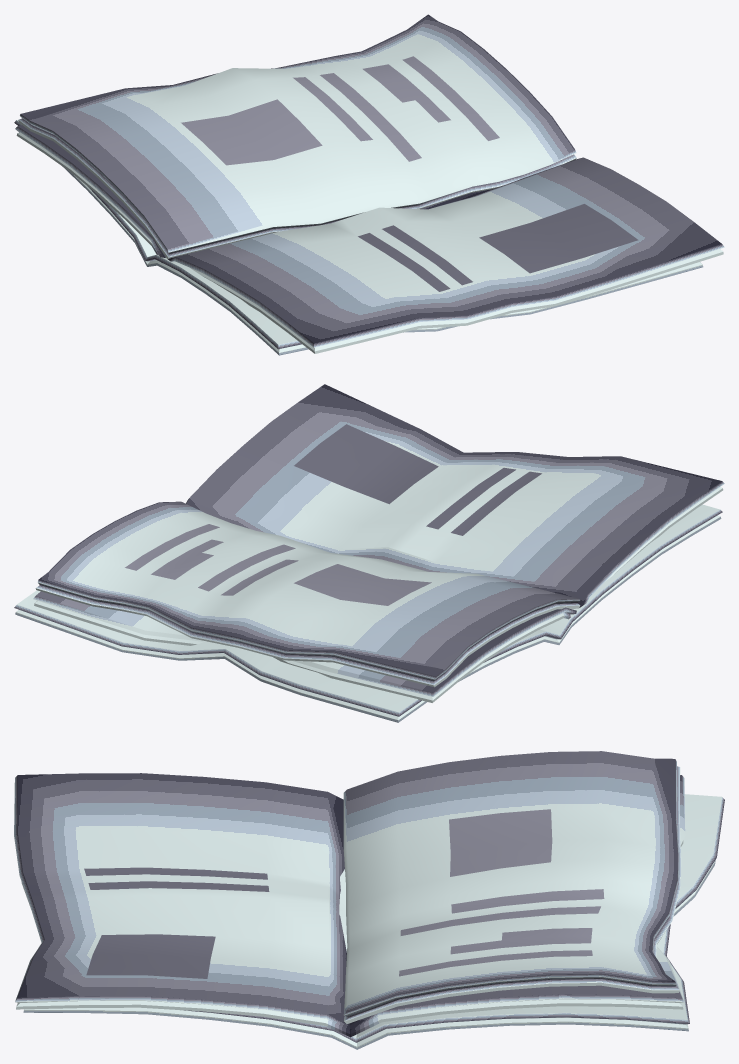
Rendered from diario.fbx.
3 views of the same model, one above another, from view 1: azimuth 30°, elevation 25°; view 2: azimuth 150°, elevation 25°; view 3: azimuth 270°, elevation 25° (orthographic). The views are drawn at different scales.
Parts seen in each view (by area): view 1: diario; view 2: diario; view 3: diario.
Part boxes in pixels (x1,y1,x2,y2): diario: [14, 14, 724, 355]; diario: [14, 384, 724, 722]; diario: [14, 751, 724, 1049].
Size of the model in its own units: 126 by 23.45 by 156.
